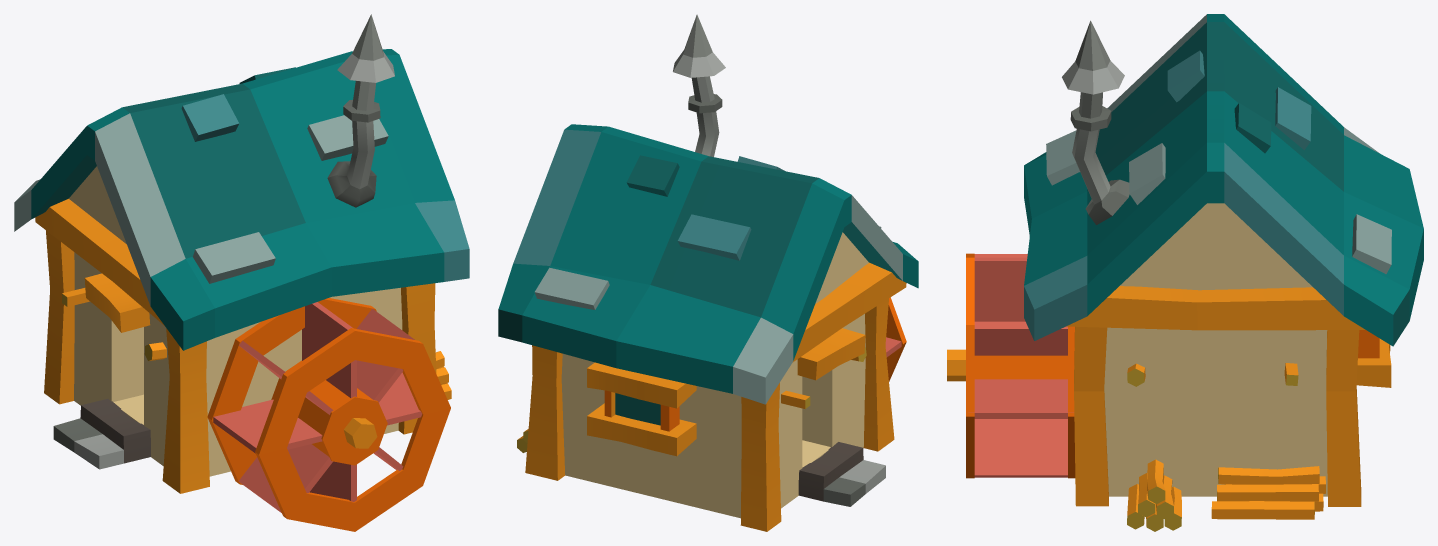
The model's file is watermill 1.fbx.
3 views of the same model, side by side, from view 1: azimuth 30°, elevation 25°; view 2: azimuth 150°, elevation 25°; view 3: azimuth 270°, elevation 25° (orthographic). The views are drawn at different scales.
Parts seen in each view (by area): view 1: watermill2, WaterWheel1; view 2: watermill2, WaterWheel1; view 3: watermill2, WaterWheel1.
Boxes of the visible parts, x1,y1,x2,y2 form: watermill2: (14,14,469,493); WaterWheel1: (207,298,450,531); watermill2: (498,14,918,531); WaterWheel1: (885,297,906,381); watermill2: (1024,14,1423,531); WaterWheel1: (947,253,1075,478).
Size of the model in its own units: 21.62 by 27.34 by 23.95.
